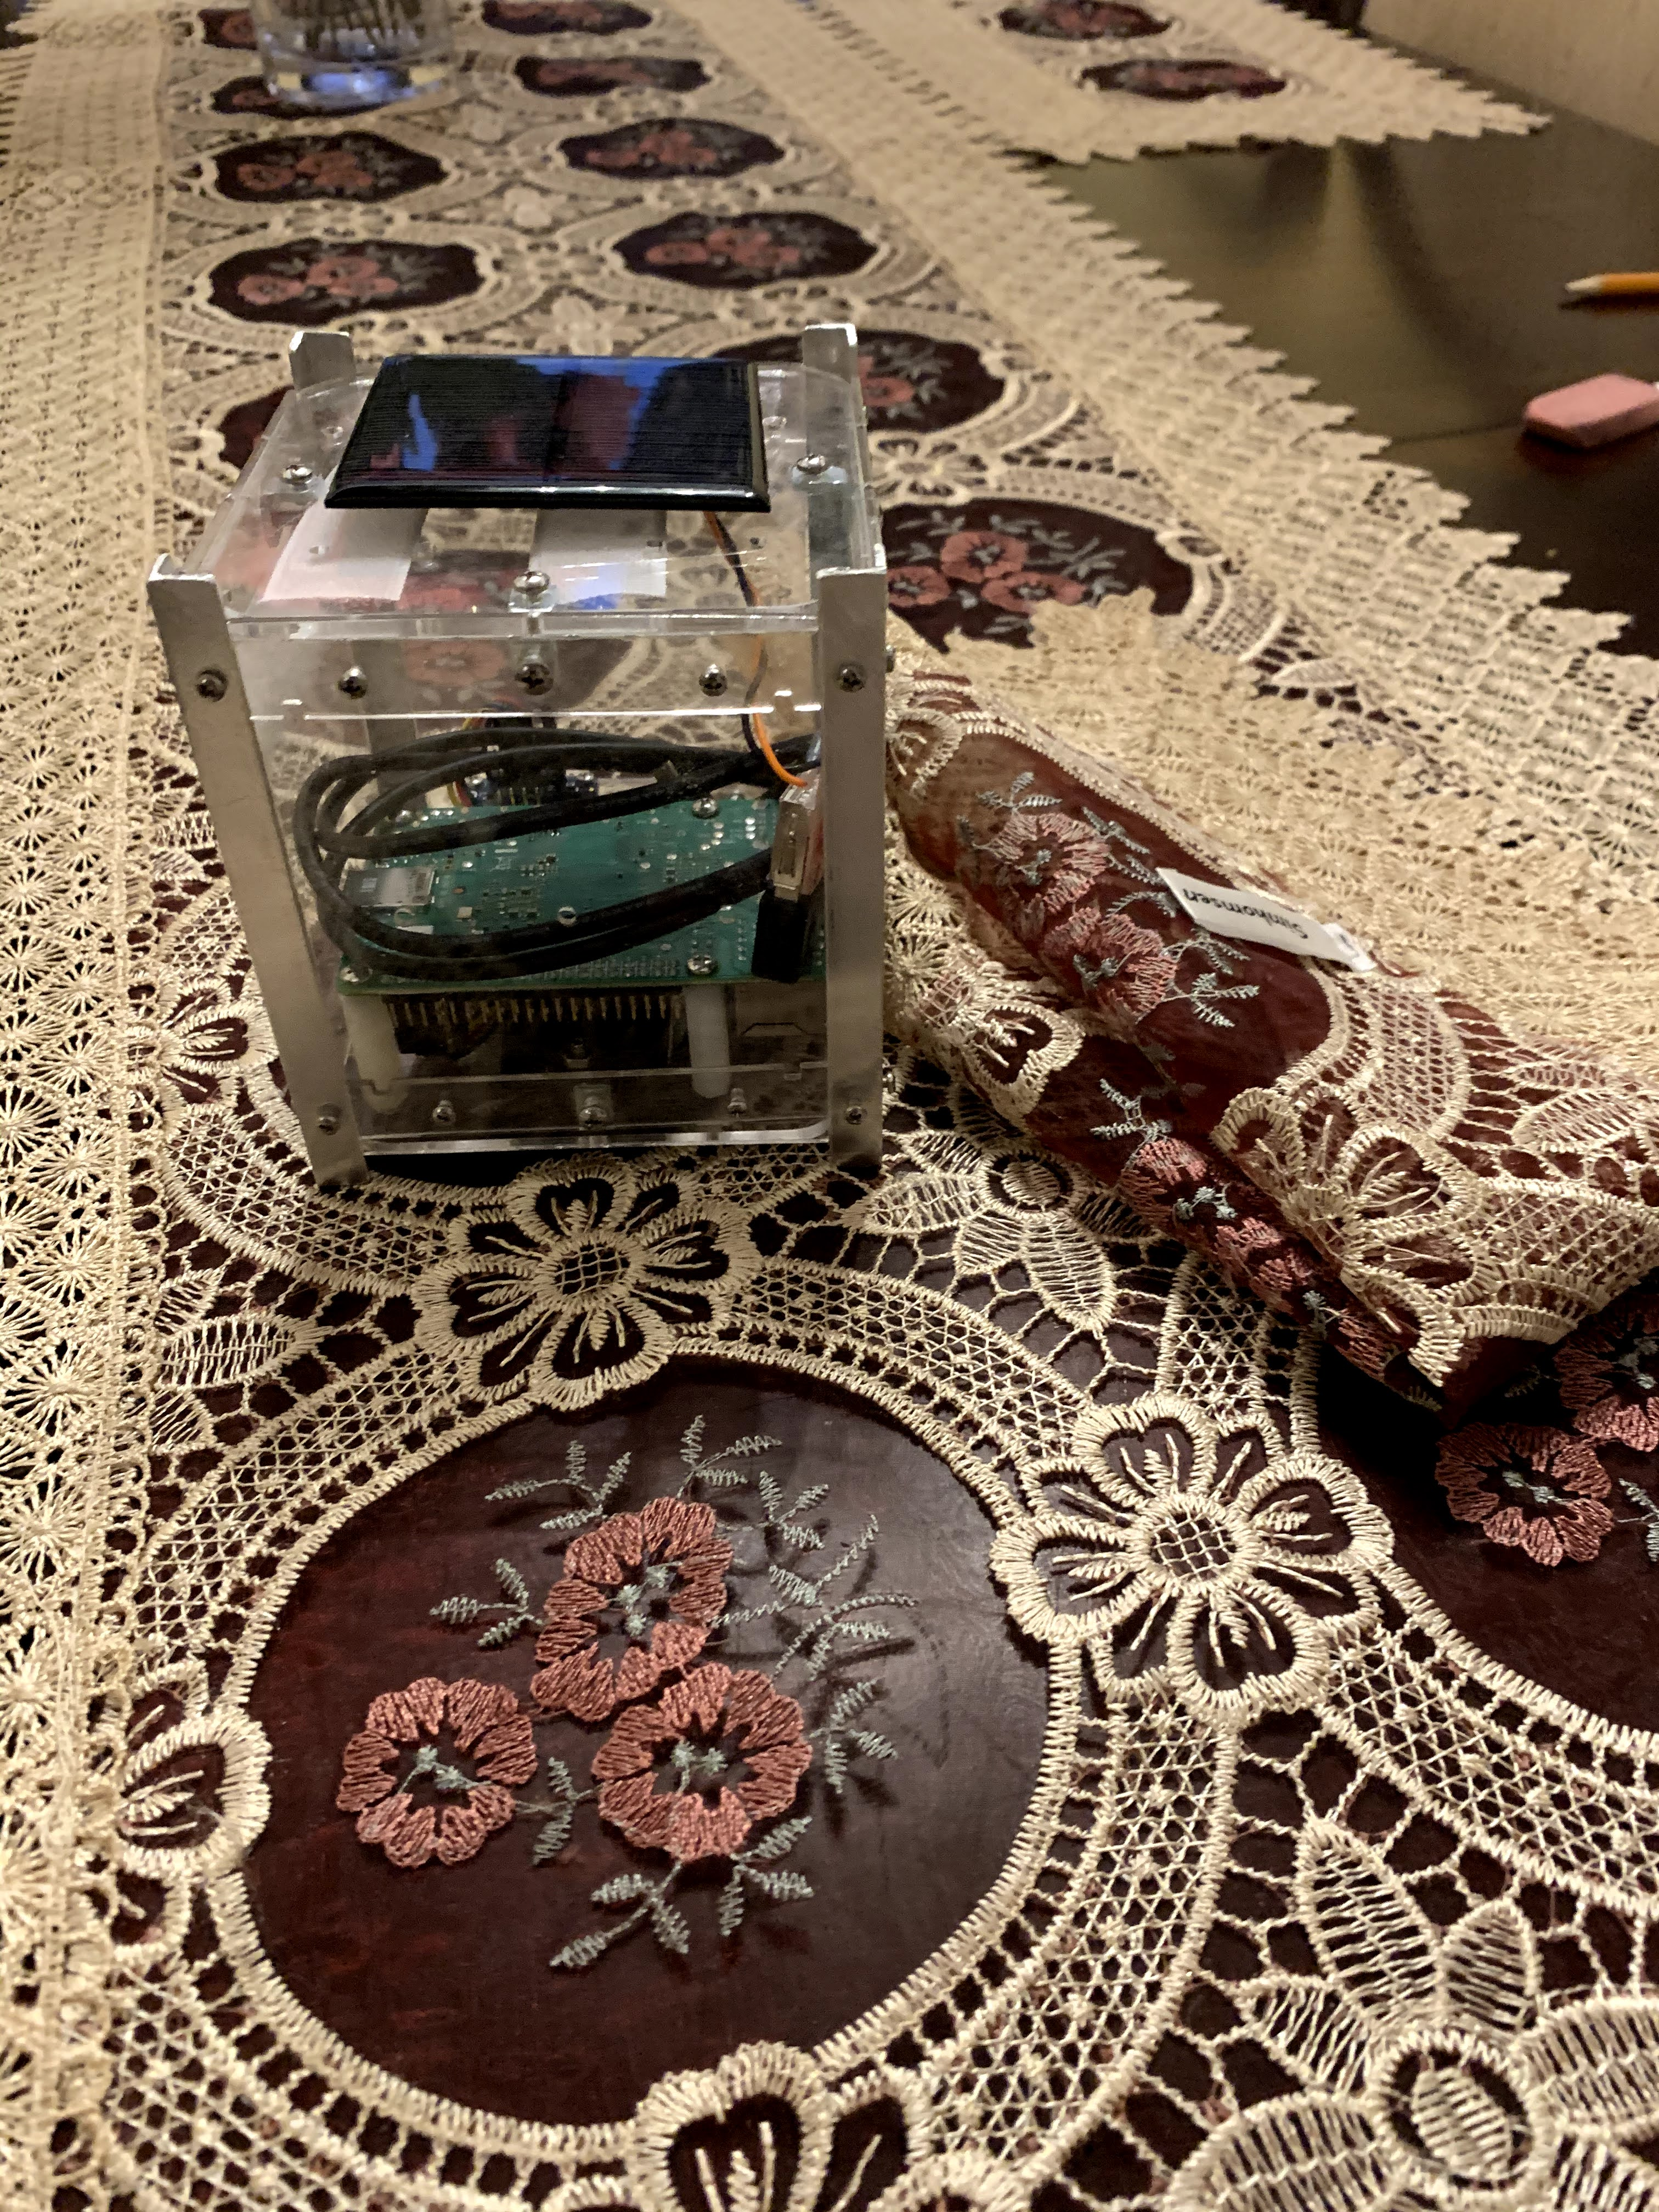Space-debris-cubesat: (132, 279, 951, 1198)
